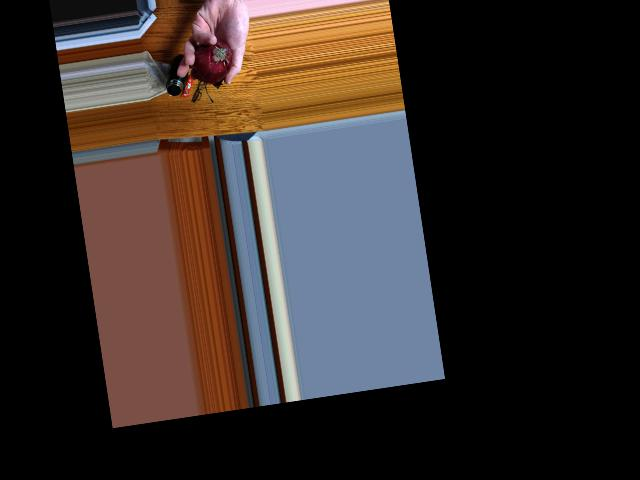onion: (190, 34, 238, 82)
